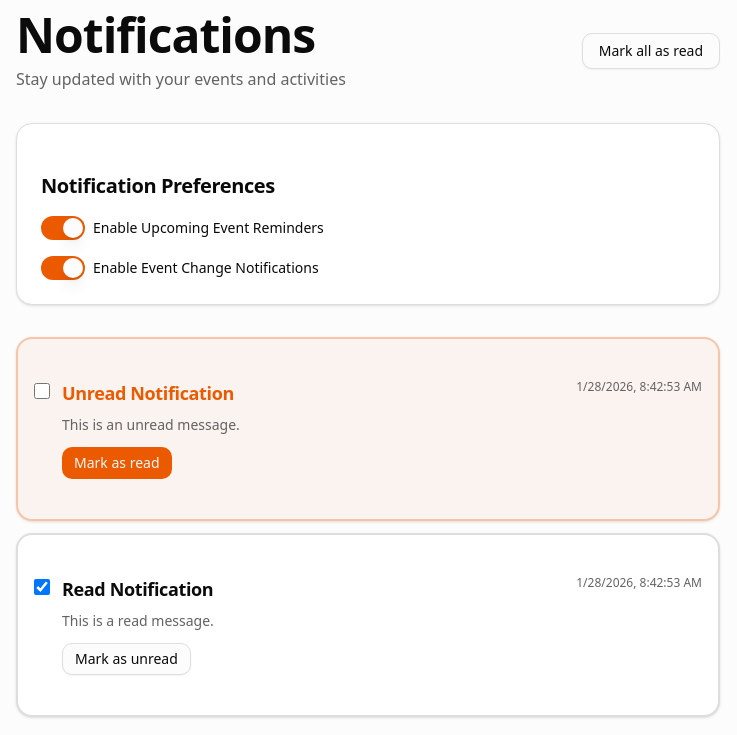
Test: NotificationsPage › should show an error if updating a notification fails (mark as read)
Click the button "Mark as read".
click(117, 463)  # box [62,447,172,479]
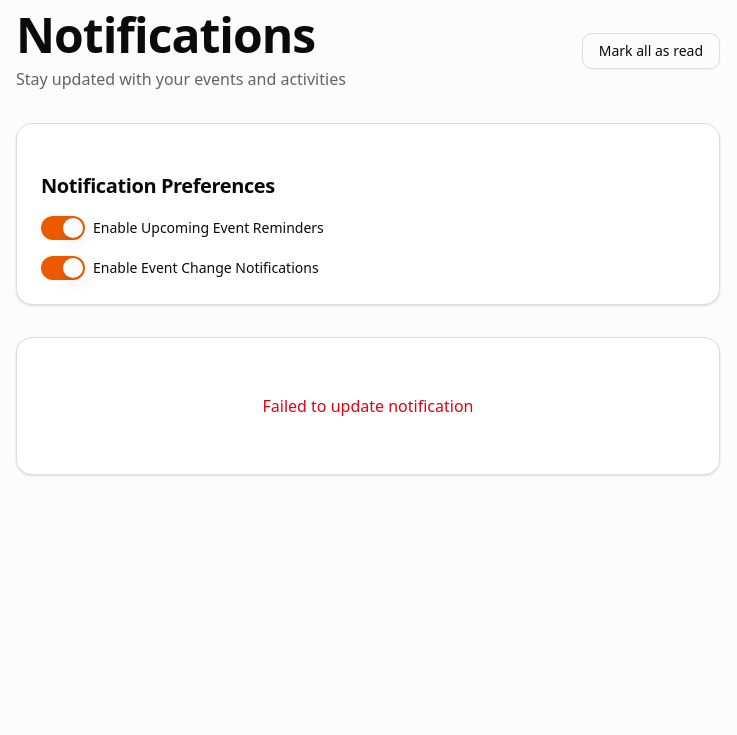
Now the text "Failed to update notification" is shown, box [262,395,473,417]
